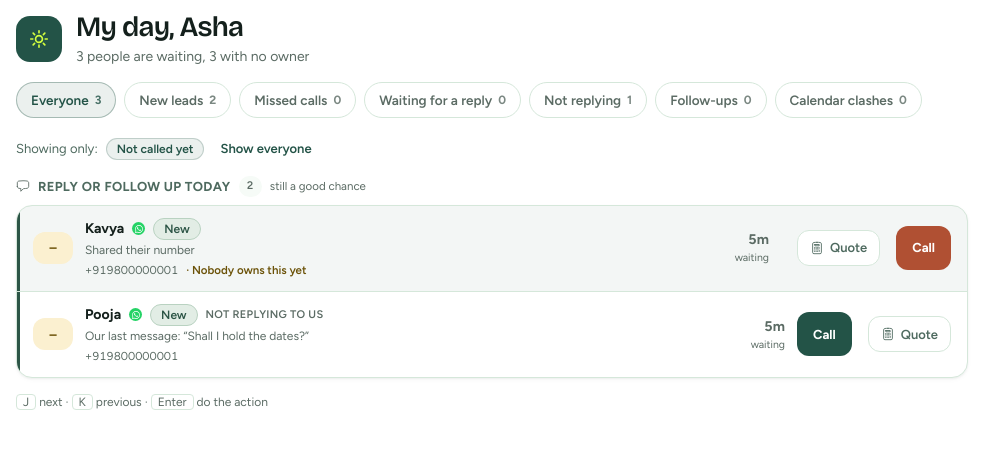
Test case: My day › opens on exactly the people a dashboard card counted (?flag=) and lists the not-replying kind
Expected: the text "Kavya" is shown, [85, 218, 124, 238]
Expected: the text "Pooja" is shown, [85, 305, 121, 325]
Click the button "Show everyone".
click(266, 149)  # box [212, 139, 320, 159]
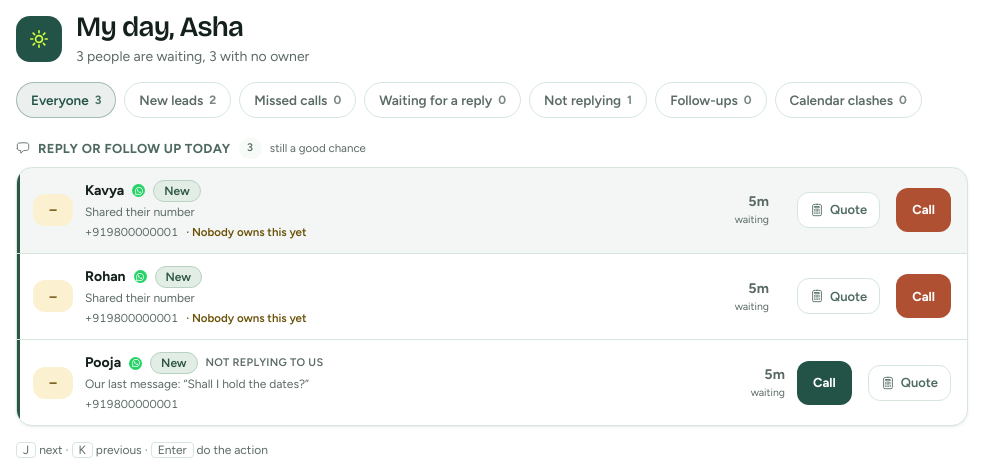
Expected: the text "Rohan" is shown, [85, 267, 126, 287]
